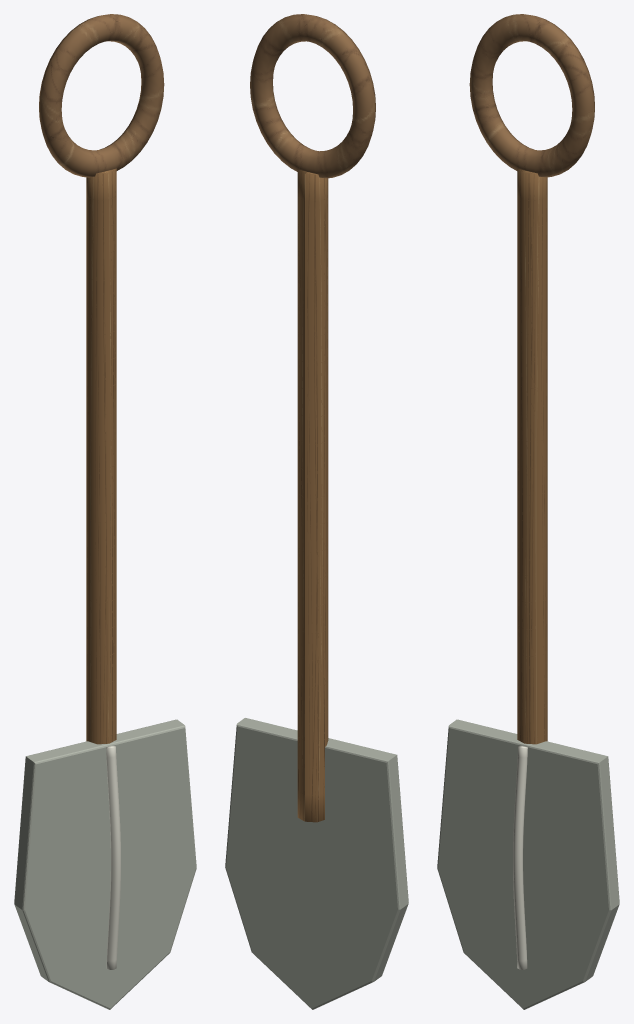
The model's file is props_p8__p8_shovel.glb.
3 views of the same model, side by side, from view 1: azimuth 30°, elevation 25°; view 2: azimuth 150°, elevation 25°; view 3: azimuth 330°, elevation 25° (orthographic).
Visible parts, largest first — view 1: spade, shovel_shaft, D_grip, spade_rib; view 2: spade, shovel_shaft, D_grip; view 3: spade, shovel_shaft, D_grip, spade_rib.
Boxes of the visible parts, <box> form: spade: <box>14,719,196,1009</box>; shovel_shaft: <box>86,168,116,744</box>; D_grip: <box>39,14,164,177</box>; spade_rib: <box>106,745,120,969</box>; spade: <box>225,718,408,1009</box>; shovel_shaft: <box>297,169,328,822</box>; D_grip: <box>250,14,375,178</box>; spade: <box>437,719,619,1009</box>; shovel_shaft: <box>517,168,547,744</box>; D_grip: <box>469,14,594,177</box>; spade_rib: <box>513,745,527,969</box>.
Size of the model in its own units: 0.2294 by 1.24 by 0.057.
Materials: 4 (2 with a texture image).
